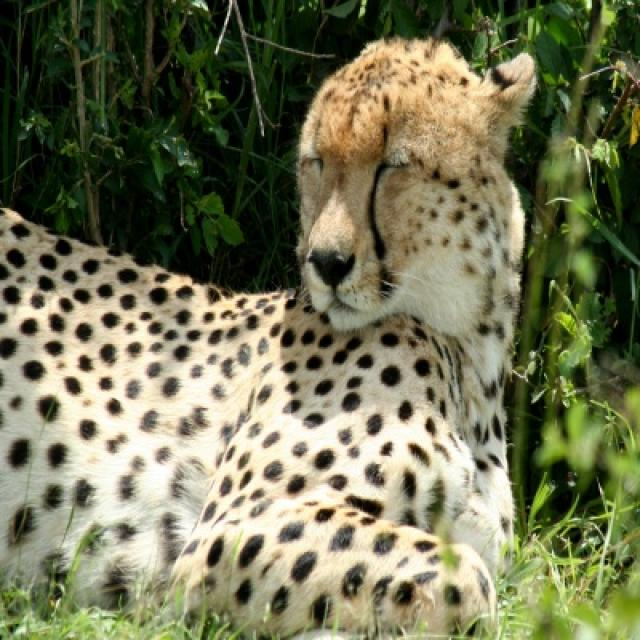Cheetah: (0, 42, 533, 635)
